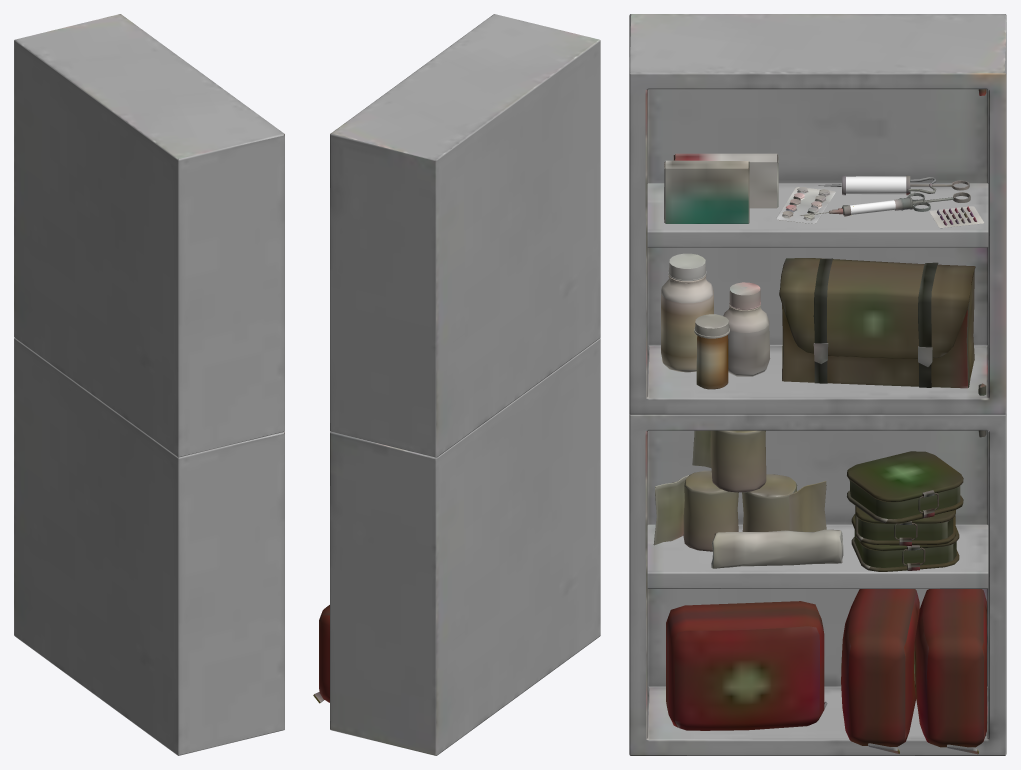
The model's file is SM_MedicineBox_03ccc8.glb.
3 views of the same model, side by side, from view 1: azimuth 30°, elevation 25°; view 2: azimuth 150°, elevation 25°; view 3: azimuth 270°, elevation 25° (orthographic). The views are drawn at different scales.
Size of the model in its own units: 0.3817 by 1.6 by 0.8003.
Materials: 2 (1 with a texture image).
